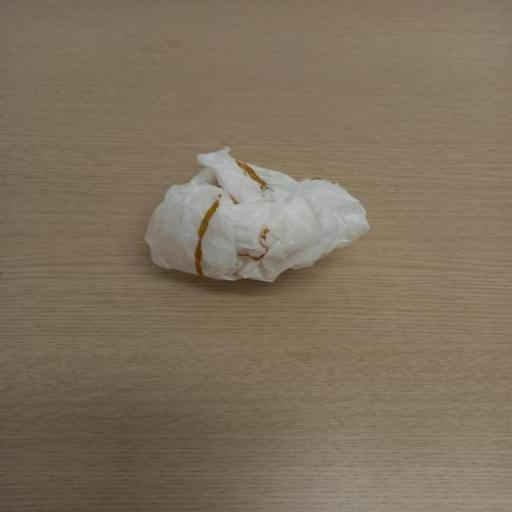plastic-bag: (139, 147, 369, 282)
